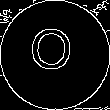O_S: (31, 28, 79, 82)
